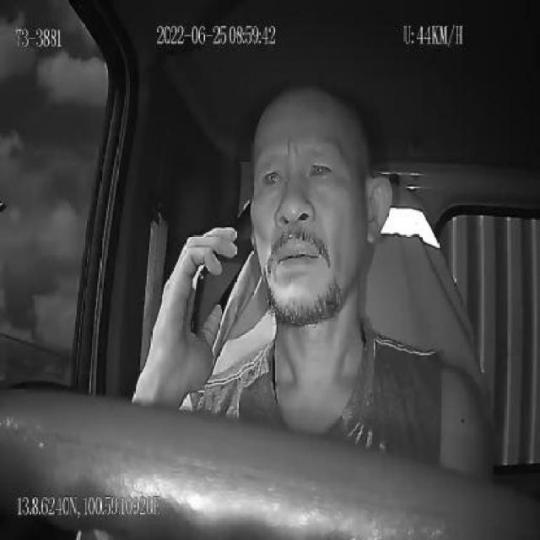phone: (190, 197, 254, 335)
